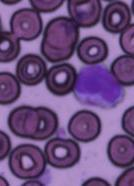M: (73, 62, 125, 109)
